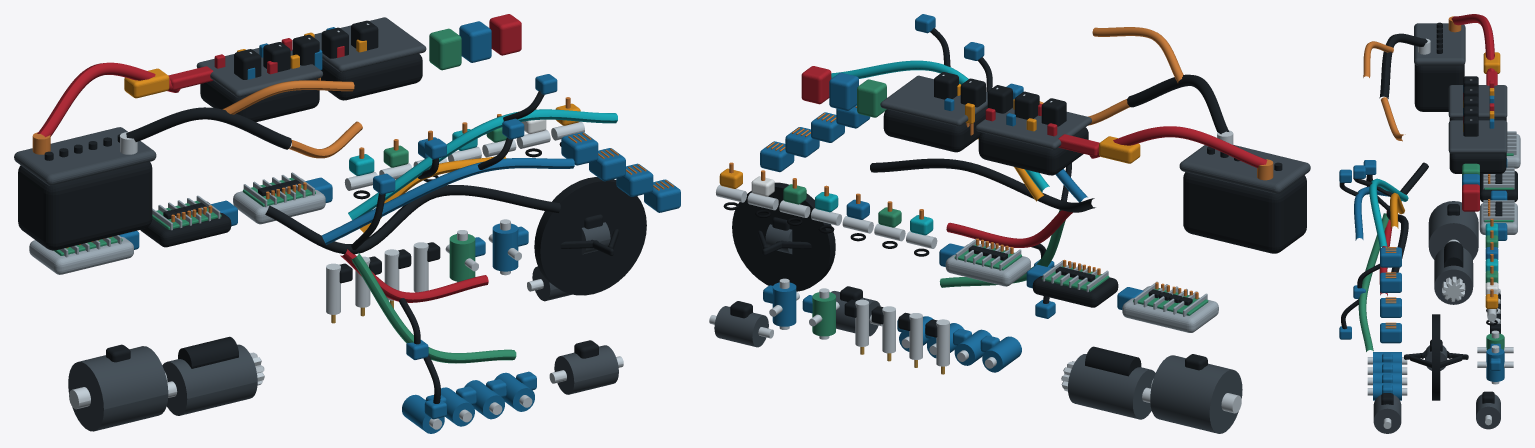
Rendered from generic_electrical_control.glb.
3 views of the same model, side by side, from view 1: azimuth 30°, elevation 25°; view 2: azimuth 150°, elevation 25°; view 3: azimuth 270°, elevation 25° (orthographic). The views are drawn at different scales.
Parts seen in each view (by area): view 1: system_mesh__battery__case, system_mesh__radiator_fan__shroud, system_mesh__alternator__motor_case, system_mesh__starter_motor__motor_case, system_mesh__battery__top, system_mesh__engine_harness__loom, system_mesh__transmission_solenoids__coil_body (×4), system_mesh__abs_harness__loom, system_mesh__sensor_harness__loom, system_mesh__interior_fuse_box__junction_box, system_mesh__interior_fuse_box__service_lid, system_mesh__engine_fuse_box__junction_box (+31 smaller); view 2: system_mesh__battery__case, system_mesh__radiator_fan__shroud, system_mesh__alternator__motor_case, system_mesh__starter_motor__motor_case, system_mesh__battery__top, system_mesh__engine_fuse_box__junction_box, system_mesh__interior_fuse_box__junction_box, system_mesh__interior_fuse_box__service_lid, system_mesh__engine_harness__loom, system_mesh__engine_fuse_box__service_lid, system_mesh__main_positive_cable__b_plus, system_mesh__ecm__sealed_case (+30 smaller); view 3: system_mesh__alternator__motor_case, system_mesh__battery__case, system_mesh__interior_fuse_box__service_lid, system_mesh__battery__top, system_mesh__engine_fuse_box__service_lid, system_mesh__starter_motor__motor_case, system_mesh__interior_fuse_box__junction_box, system_mesh__transmission_solenoids__coil_body (×4), system_mesh__transmission_harness__loom, system_mesh__main_negative_cable__negative, system_mesh__abs_pump__motor_case, system_mesh__sensor_harness__loom (+27 smaller).
Boxes of the visible parts, bbox=[...] form: system_mesh__battery__case: bbox=[18, 162, 152, 250]; system_mesh__radiator_fan__shroud: bbox=[534, 177, 646, 295]; system_mesh__alternator__motor_case: bbox=[68, 346, 168, 431]; system_mesh__starter_motor__motor_case: bbox=[162, 344, 257, 415]; system_mesh__battery__top: bbox=[14, 127, 156, 185]; system_mesh__engine_harness__loom: bbox=[265, 185, 560, 254]; system_mesh__transmission_solenoids__coil_body (×4): bbox=[402, 372, 534, 433]; system_mesh__abs_harness__loom: bbox=[321, 158, 574, 244]; system_mesh__sensor_harness__loom: bbox=[348, 109, 617, 219]; system_mesh__interior_fuse_box__junction_box: bbox=[316, 54, 422, 100]; system_mesh__interior_fuse_box__service_lid: bbox=[314, 17, 426, 72]; system_mesh__engine_fuse_box__junction_box: bbox=[200, 79, 319, 122]; system_mesh__battery__case: bbox=[1183, 172, 1306, 253]; system_mesh__radiator_fan__shroud: bbox=[732, 182, 835, 291]; system_mesh__alternator__motor_case: bbox=[1150, 355, 1242, 433]; system_mesh__starter_motor__motor_case: bbox=[1068, 354, 1155, 419]; system_mesh__battery__top: bbox=[1179, 145, 1310, 193]; system_mesh__engine_fuse_box__junction_box: bbox=[978, 127, 1088, 175]; system_mesh__interior_fuse_box__junction_box: bbox=[883, 106, 987, 152]; system_mesh__interior_fuse_box__service_lid: bbox=[880, 75, 987, 126]; system_mesh__engine_harness__loom: bbox=[870, 158, 1095, 212]; system_mesh__engine_fuse_box__service_lid: bbox=[975, 99, 1091, 149]; system_mesh__main_positive_cable__b_plus: bbox=[1089, 126, 1267, 168]; system_mesh__ecm__sealed_case: bbox=[1122, 286, 1218, 332]; system_mesh__alternator__motor_case: bbox=[1428, 201, 1478, 259]; system_mesh__battery__case: bbox=[1414, 64, 1464, 111]; system_mesh__interior_fuse_box__service_lid: bbox=[1448, 120, 1507, 153]; system_mesh__battery__top: bbox=[1414, 23, 1465, 65]; system_mesh__engine_fuse_box__service_lid: bbox=[1448, 85, 1507, 118]; system_mesh__starter_motor__motor_case: bbox=[1434, 248, 1473, 304]; system_mesh__interior_fuse_box__junction_box: bbox=[1449, 153, 1506, 173]; system_mesh__transmission_solenoids__coil_body (×4): bbox=[1373, 352, 1401, 400]; system_mesh__transmission_harness__loom: bbox=[1358, 213, 1388, 351]; system_mesh__main_negative_cable__negative: bbox=[1379, 33, 1427, 98]; system_mesh__abs_pump__motor_case: bbox=[1373, 395, 1401, 433]; system_mesh__sensor_harness__loom: bbox=[1369, 178, 1408, 248].
Size of the model in its own units: 7.11 by 4.35 by 2.6.
